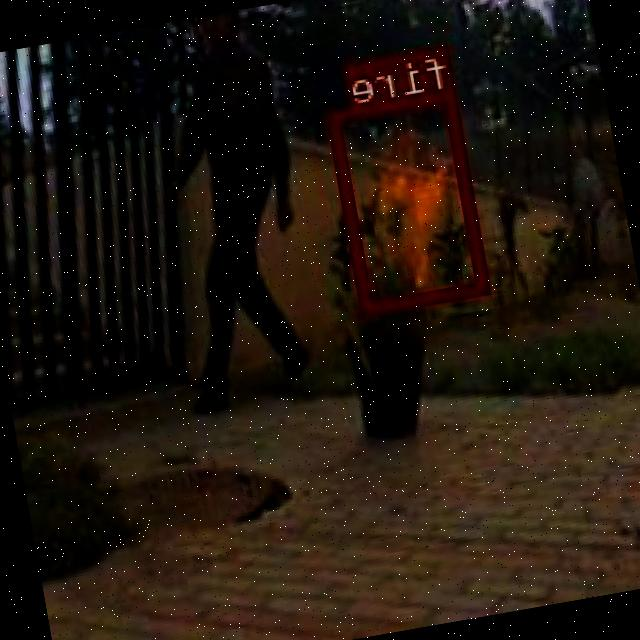fire: (329, 86, 492, 312)
